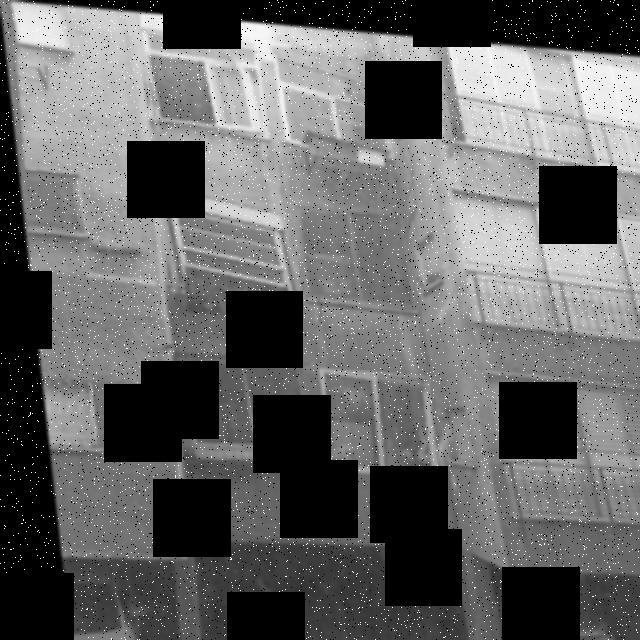Window: (147, 176, 296, 299), (163, 347, 305, 472), (312, 361, 444, 474), (136, 26, 262, 136), (295, 196, 418, 306), (273, 48, 397, 153), (32, 372, 105, 462), (14, 159, 86, 244), (7, 0, 74, 58)
